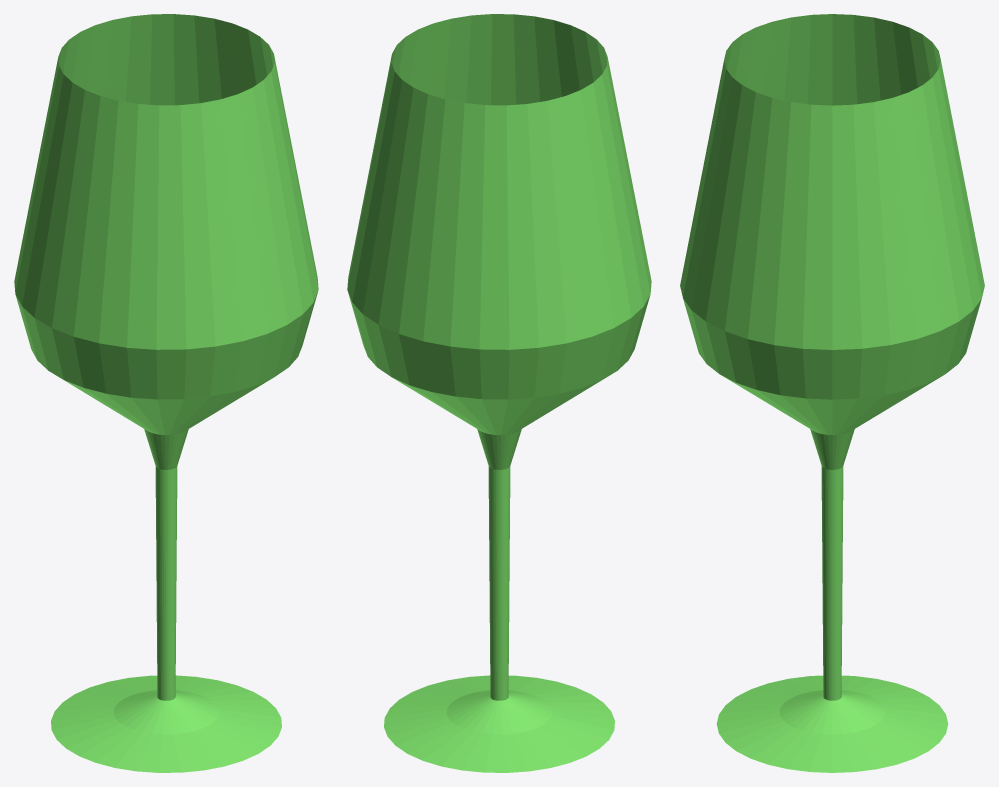
File: uraniumglass.fbx
3 views of the same model, side by side, from view 1: azimuth 30°, elevation 25°; view 2: azimuth 150°, elevation 25°; view 3: azimuth 270°, elevation 25° (orthographic).
Visible parts, largest first — view 1: Cylinder; view 2: Cylinder; view 3: Cylinder.
Boxes of the visible parts, box(x1,y1,x2,y2) form: Cylinder: box(14, 14, 318, 772); Cylinder: box(347, 14, 651, 772); Cylinder: box(680, 14, 984, 772).
Bounding box in the file's own units: 106 × 255 × 106.
